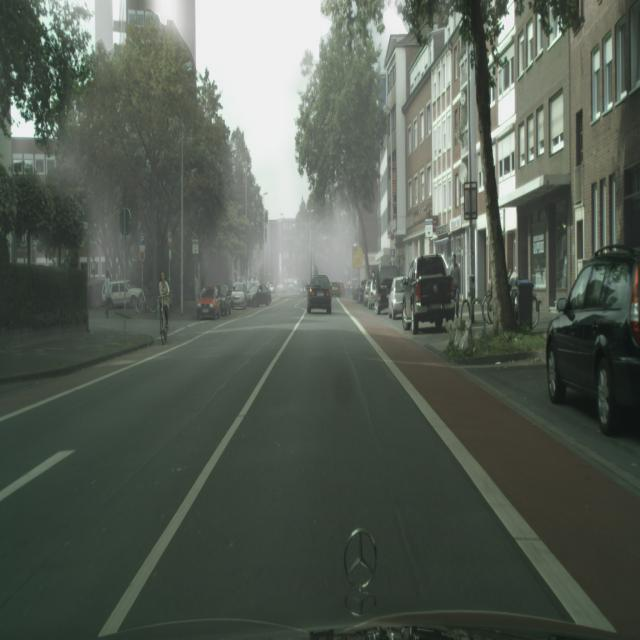bus: (546, 244, 640, 437), (402, 254, 454, 333), (105, 279, 148, 312), (307, 274, 332, 314), (197, 286, 222, 320), (388, 277, 407, 320), (246, 281, 272, 308), (231, 281, 248, 310), (219, 286, 232, 315), (365, 280, 376, 308)
car: (158, 271, 172, 344), (481, 278, 494, 325)
person: (449, 253, 461, 322), (102, 271, 112, 319)
